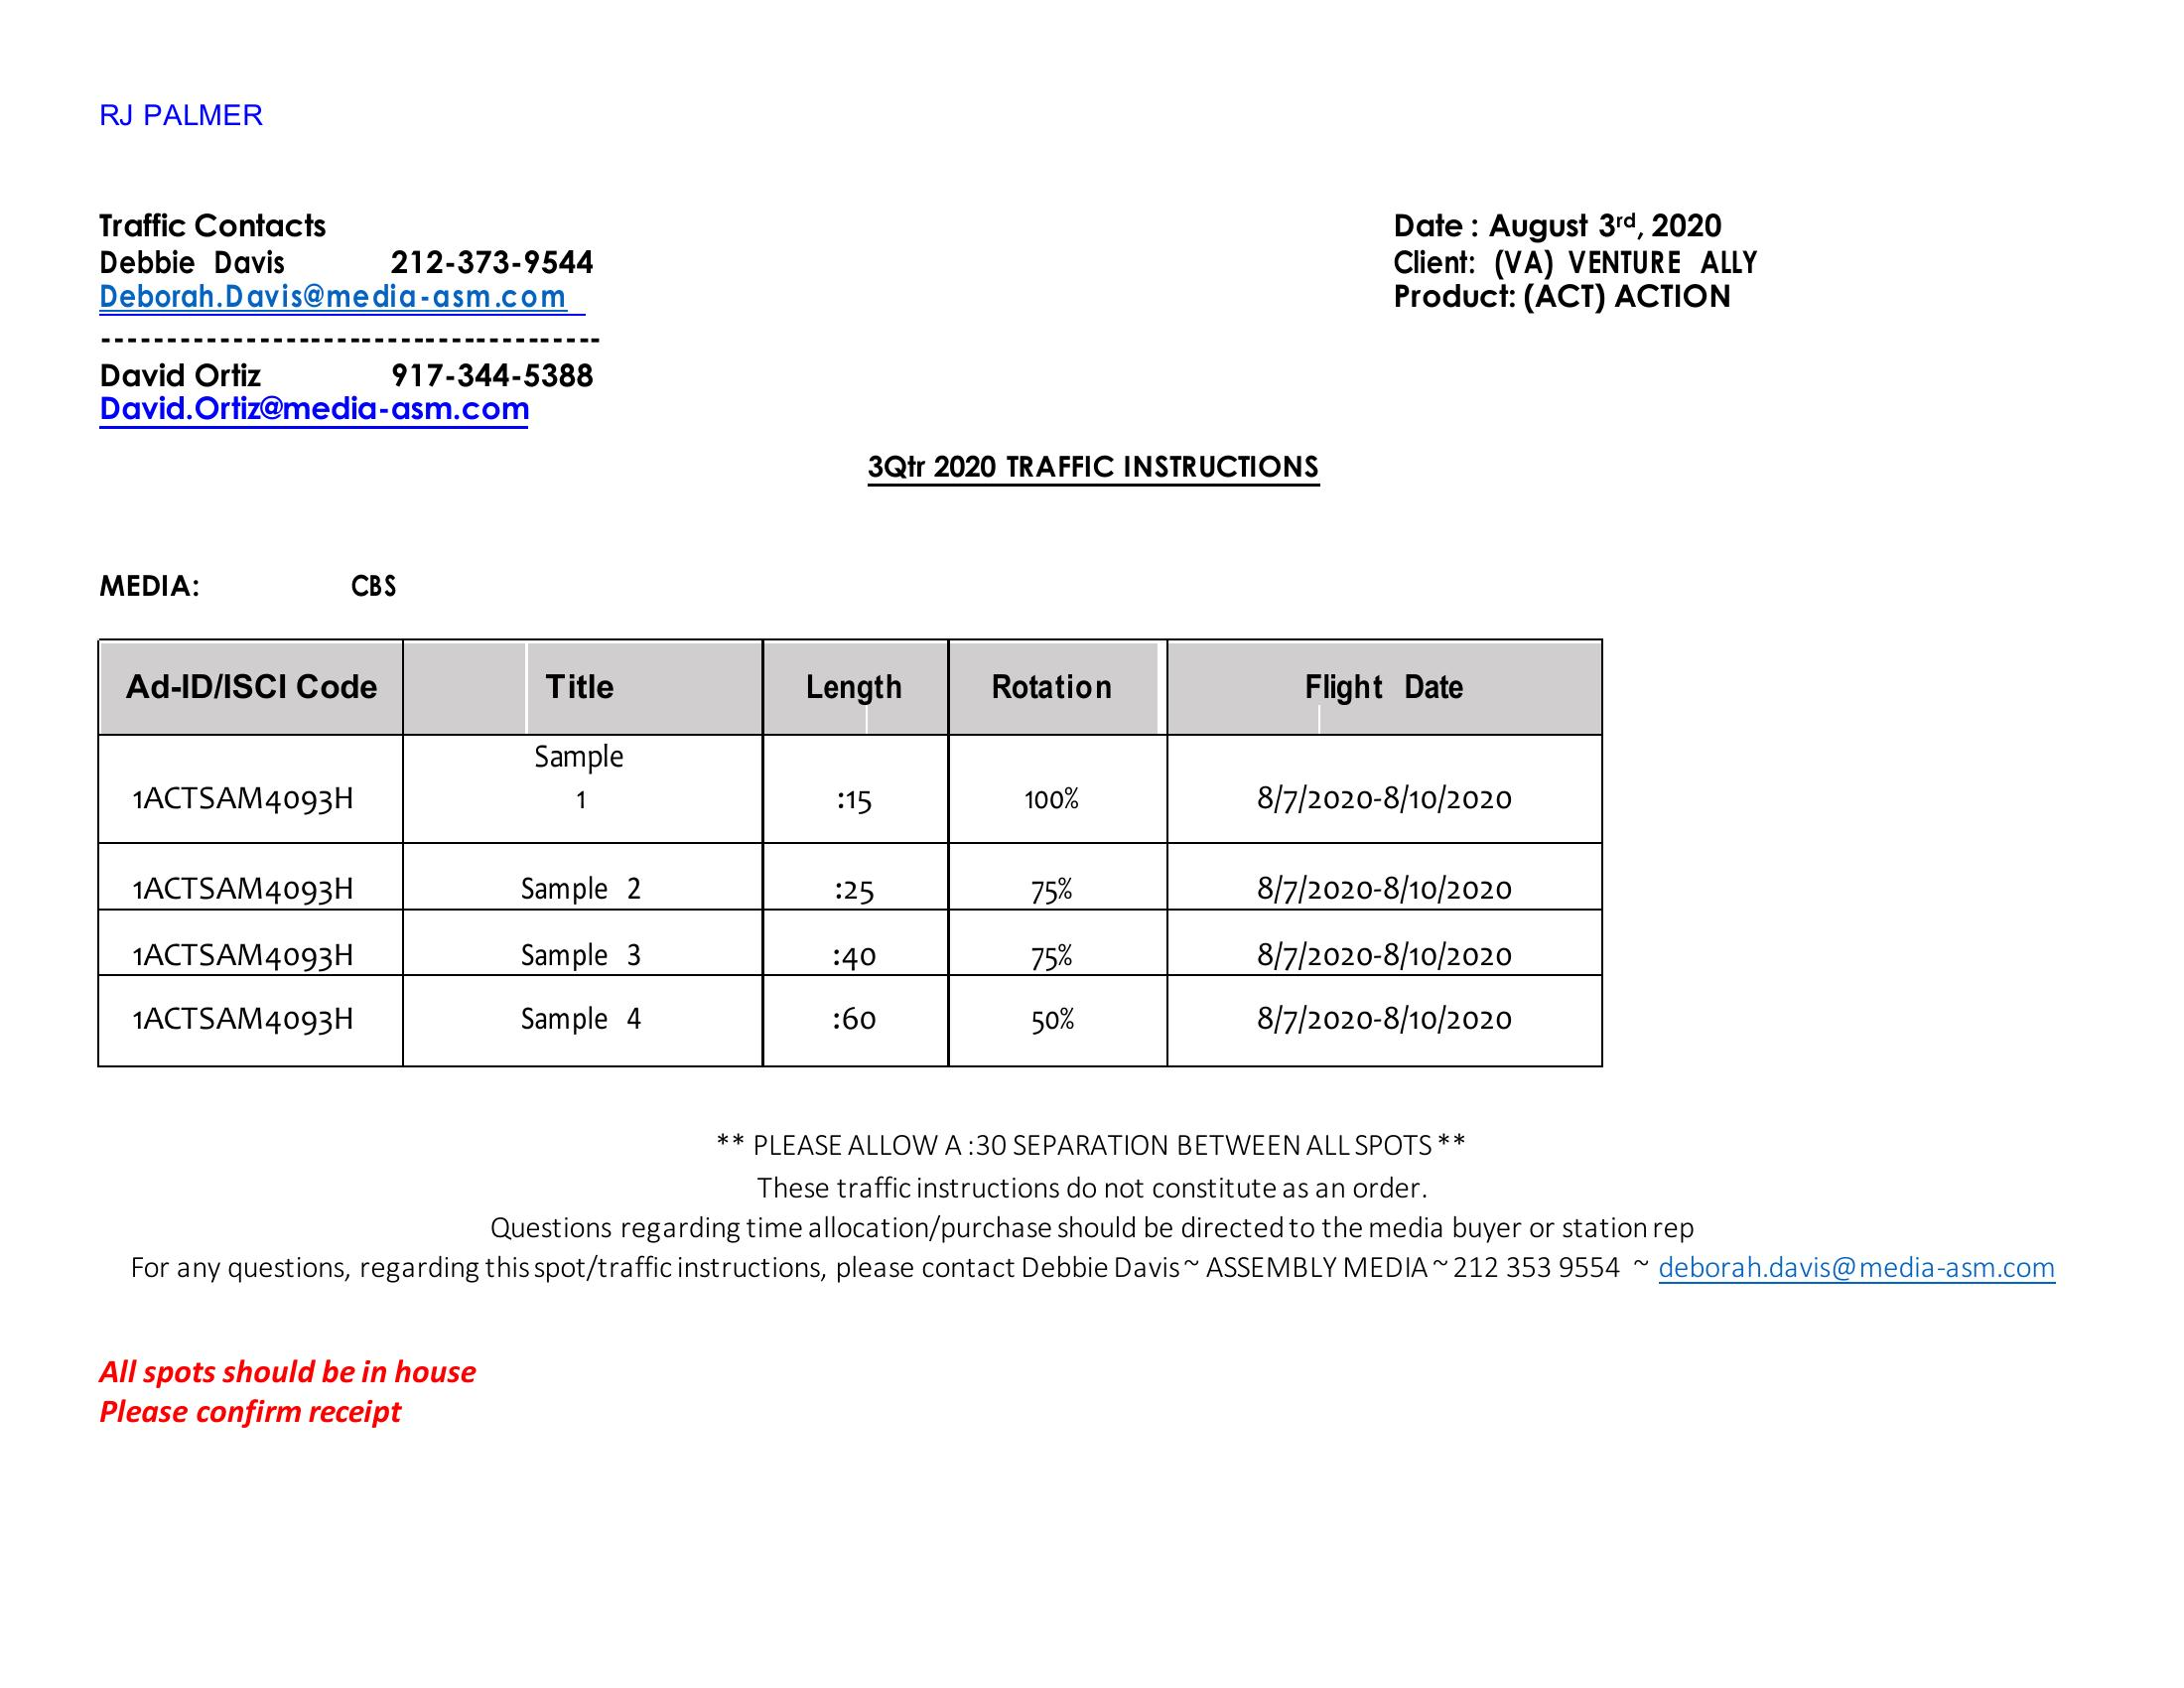table: (80, 624, 1631, 1087)
